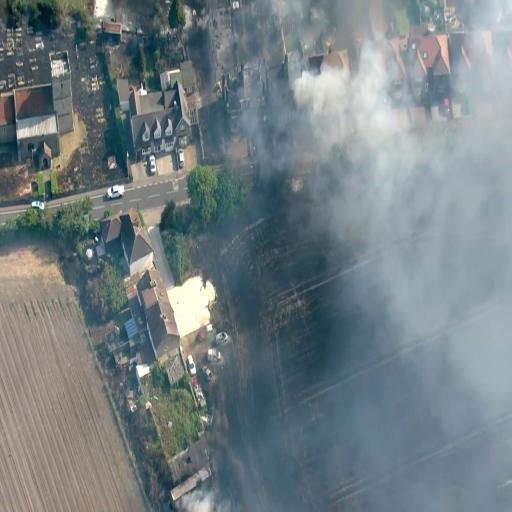smoke: (375, 122, 501, 328), (303, 54, 384, 140)
